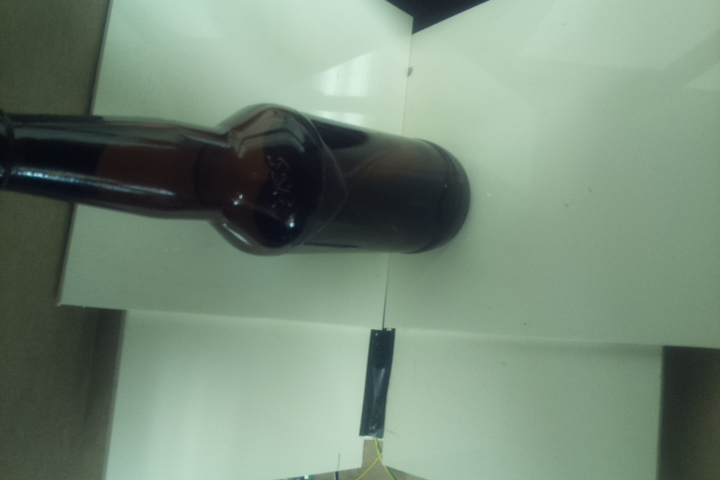makju: (1, 102, 475, 260)
